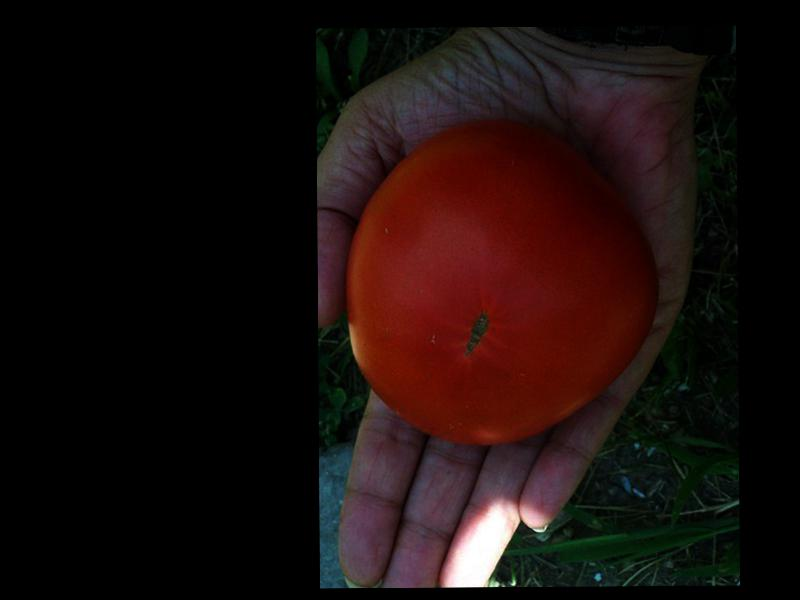Tomato: (345, 122, 659, 445)
